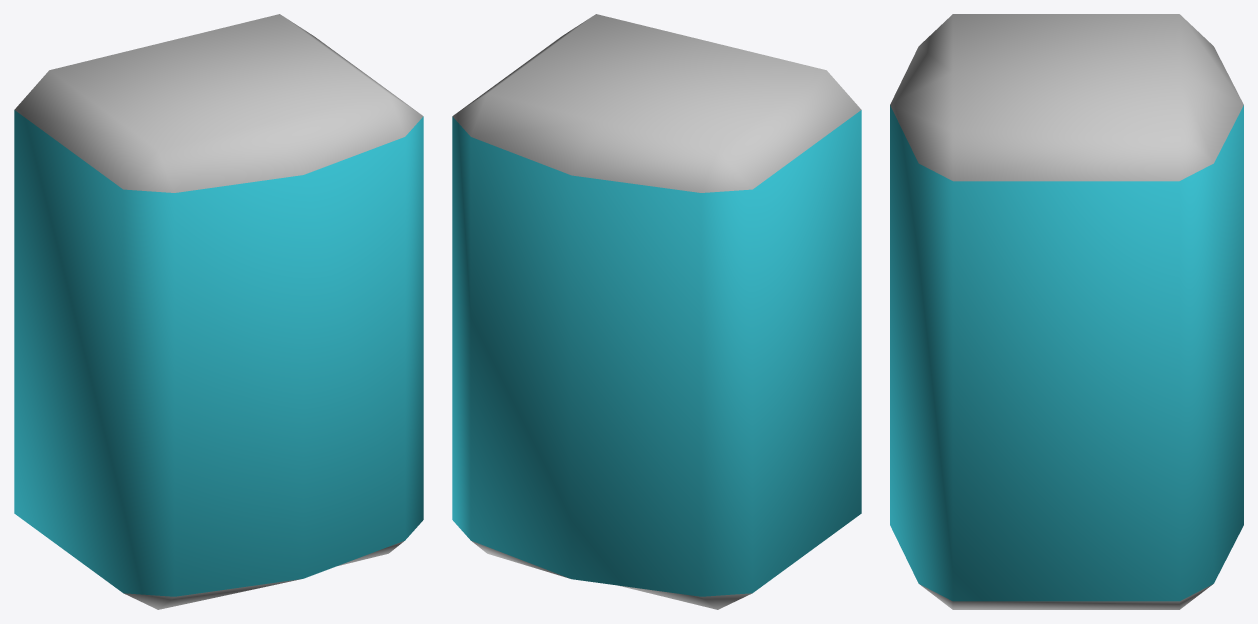
The model's file is Kan1.fbx.
The picture shows the model from 3 angles, left to right: view 1: azimuth 30°, elevation 25°; view 2: azimuth 150°, elevation 25°; view 3: azimuth 270°, elevation 25°; orthographic projection. The views are drawn at different scales.
Visible parts, largest first — view 1: 立方体.004; view 2: 立方体.004; view 3: 立方体.004.
Boxes of the visible parts, x1,y1,x2,y2 form: 立方体.004: [14, 14, 423, 609]; 立方体.004: [452, 14, 861, 609]; 立方体.004: [890, 14, 1243, 609].
Size of the model in its own units: 35.9 by 52.55 by 35.2.
